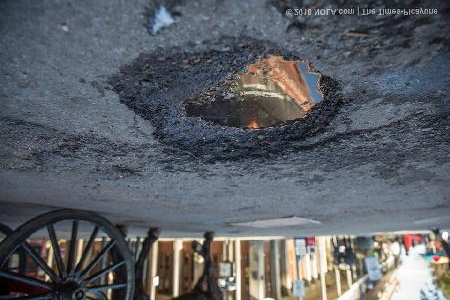pothole: (101, 36, 346, 167)
